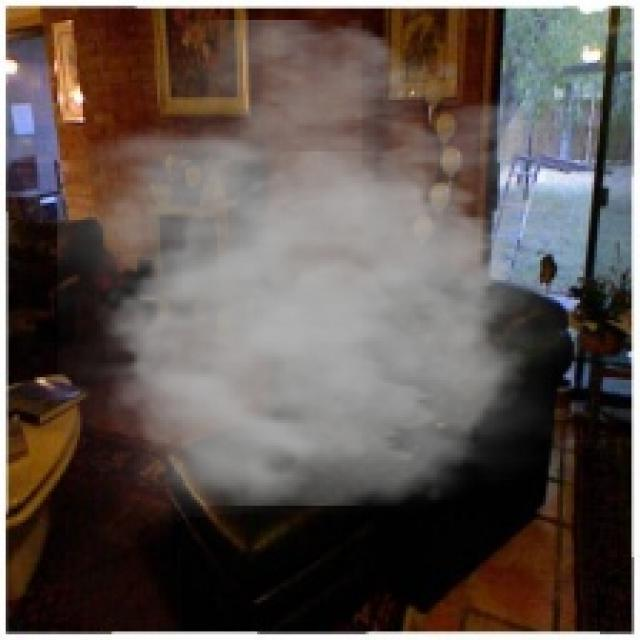Smoke: (57, 20, 609, 537)
